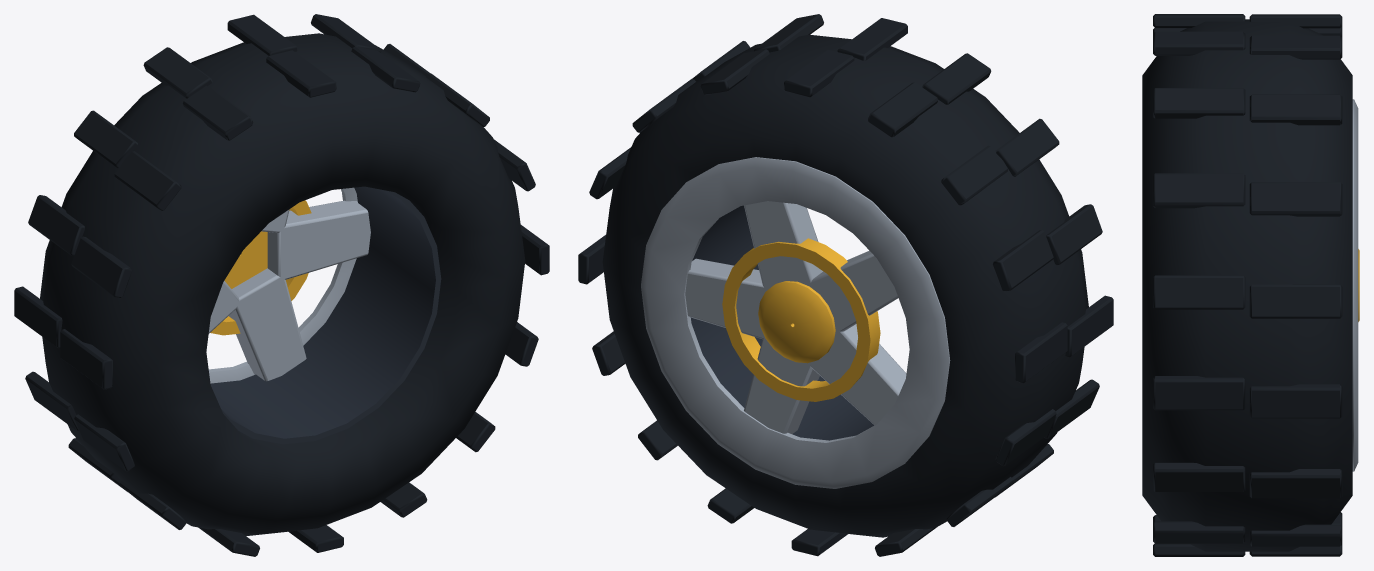
3 renders of one model, left to right at view 1: azimuth 30°, elevation 25°; view 2: azimuth 150°, elevation 25°; view 3: azimuth 270°, elevation 25°, orthographic. The views are drawn at different scales.
Visible parts, largest first — view 1: W11_Tire, W11_Rim_barrel, W11_Monster_heavy_cross_0, W11_Monster_heavy_cross_4, W11_Rim_outer_lip, W11_Tread_14_-1, W11_Tread_13_-1, W11_Tread_15_-1, W11_Tread_13_1, W11_Tread_14_1, W11_Tread_15_1, W11_Tread_12_-1 (+19 smaller); view 2: W11_Tire, W11_Rim_outer_lip, W11_Monster_inner_ring, W11_Rim_barrel, W11_Axle_cap, W11_Monster_heavy_cross_3, W11_Monster_heavy_cross_1, W11_Monster_heavy_cross_0, W11_Monster_heavy_cross_4, W11_Monster_heavy_cross_2, W11_Tread_14_1, W11_Tread_13_1 (+21 smaller); view 3: W11_Tire, W11_Tread_3_1, W11_Tread_3_-1, W11_Tread_2_-1, W11_Tread_2_1, W11_Tread_4_-1, W11_Tread_4_1, W11_Tread_1_1, W11_Tread_1_-1, W11_Tread_5_1, W11_Tread_5_-1, W11_Rim_outer_lip (+8 smaller).
Boxes of the visible parts, x1,y1,x2,y2 form: W11_Tire: (40,33,525,536); W11_Rim_barrel: (210,186,441,444); W11_Monster_heavy_cross_0: (267,200,370,279); W11_Monster_heavy_cross_4: (229,268,306,381); W11_Rim_outer_lip: (208,187,357,383); W11_Tread_14_-1: (114,151,181,211); W11_Tread_13_-1: (71,236,132,298); W11_Tread_15_-1: (183,85,252,140); W11_Tread_13_1: (28,195,84,255); W11_Tread_14_1: (74,110,137,168); W11_Tread_15_1: (143,47,212,98); W11_Tread_12_-1: (60,329,112,389); W11_Tire: (602,34,1088,537); W11_Rim_outer_lip: (641,157,950,488); W11_Monster_inner_ring: (722,238,880,401); W11_Rim_barrel: (690,205,874,440); W11_Axle_cap: (758,281,835,363); W11_Monster_heavy_cross_3: (808,324,906,425); W11_Monster_heavy_cross_1: (744,201,822,290); W11_Monster_heavy_cross_0: (685,258,767,339); W11_Monster_heavy_cross_4: (744,337,819,433); W11_Monster_heavy_cross_2: (810,250,898,332); W11_Tread_14_1: (941,145,1007,205); W11_Tread_13_1: (993,230,1053,291); W11_Tire: (1142,19,1352,551); W11_Tread_3_1: (1249,284,1342,318); W11_Tread_3_-1: (1153,275,1245,309); W11_Tread_2_-1: (1153,173,1245,208); W11_Tread_2_1: (1249,182,1342,216); W11_Tread_4_-1: (1153,376,1245,410); W11_Tread_4_1: (1249,384,1342,418); W11_Tread_1_1: (1249,94,1342,125); W11_Tread_1_-1: (1153,88,1245,118); W11_Tread_5_1: (1249,469,1342,498); W11_Tread_5_-1: (1153,462,1245,491); W11_Rim_outer_lip: (1352,99,1358,471).
Bounding box in the file's own units: 4.77 × 4.77 × 1.91.
